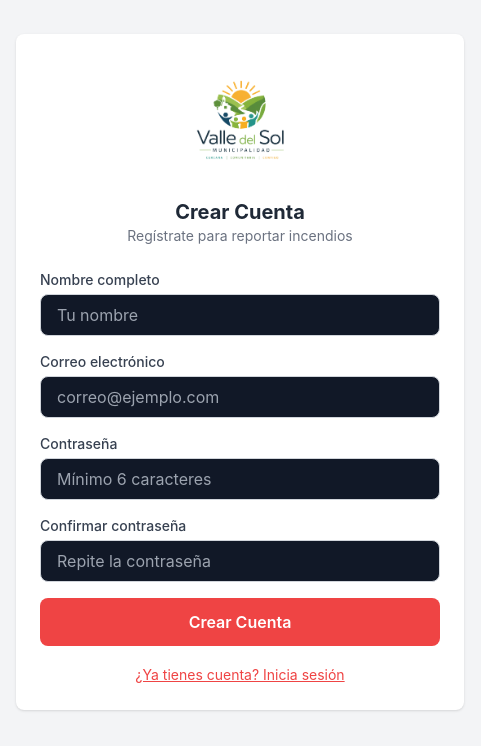
Test: Registro Page › shows error when passwords do not match
Step 1. Type "Juan" into the field with placeholder "Tu nombre" → (240, 315), box [40, 294, 440, 336]
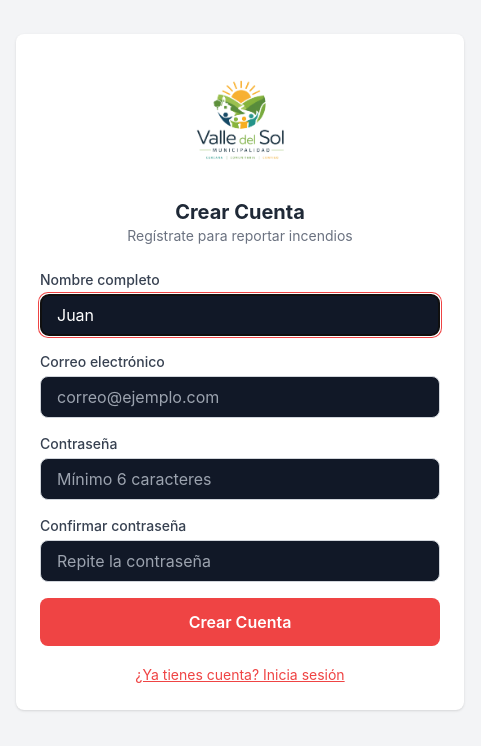
Step 2. Type "j@j.cl" into the field with placeholder "correo@ejemplo.com" → (240, 397), box [40, 376, 440, 418]
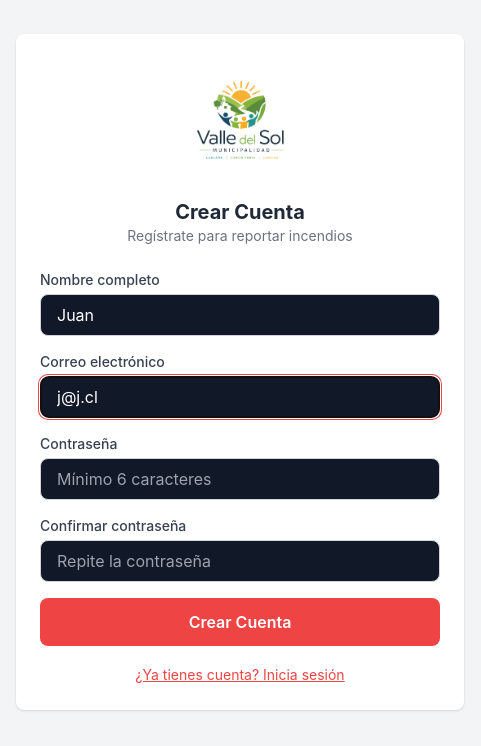
Step 3. Type "123456" into the password field with placeholder "Mínimo 6 caracteres" → (240, 479), box [40, 458, 440, 500]
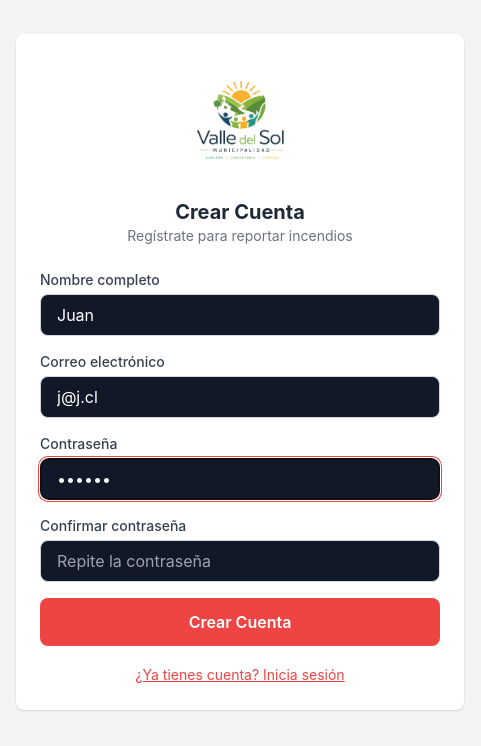
Step 4. Type "654321" into the password field with placeholder "Repite la contraseña" → (240, 561), box [40, 540, 440, 582]
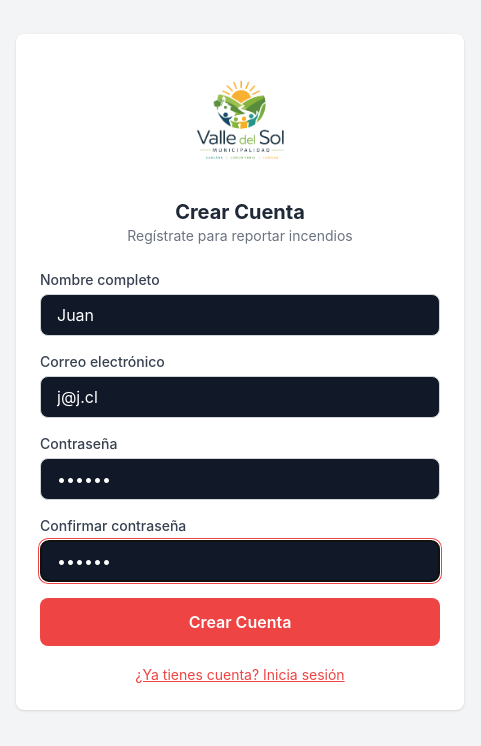
Step 5. Submit the form "Crear Cuenta", box [40, 270, 440, 646]
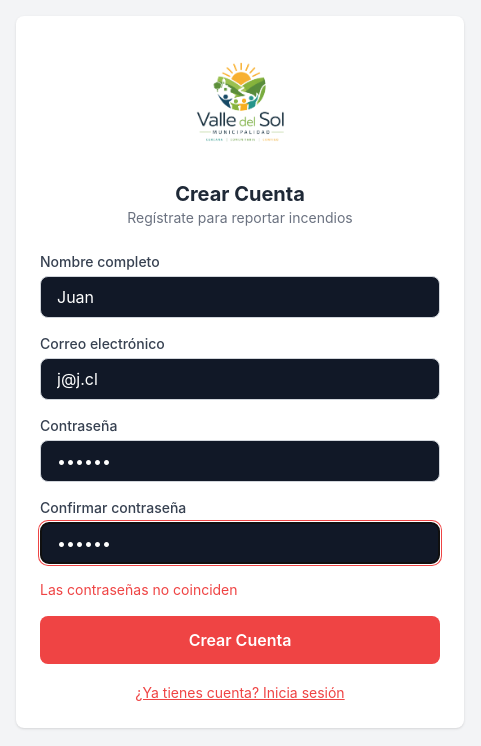
Expected: the text "Las contraseñas no coinciden" is shown, [40, 581, 238, 598]
